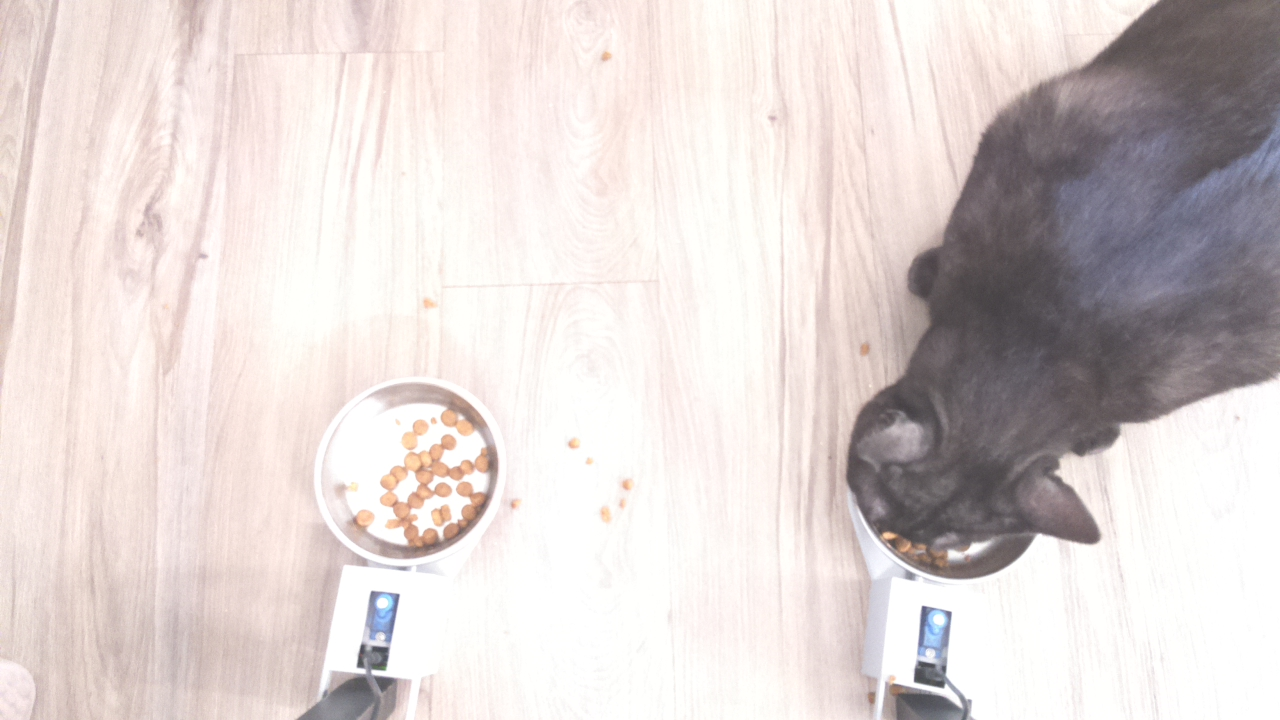open_bowl: (307, 378, 506, 568)
saki_eating: (832, 342, 1126, 575)
